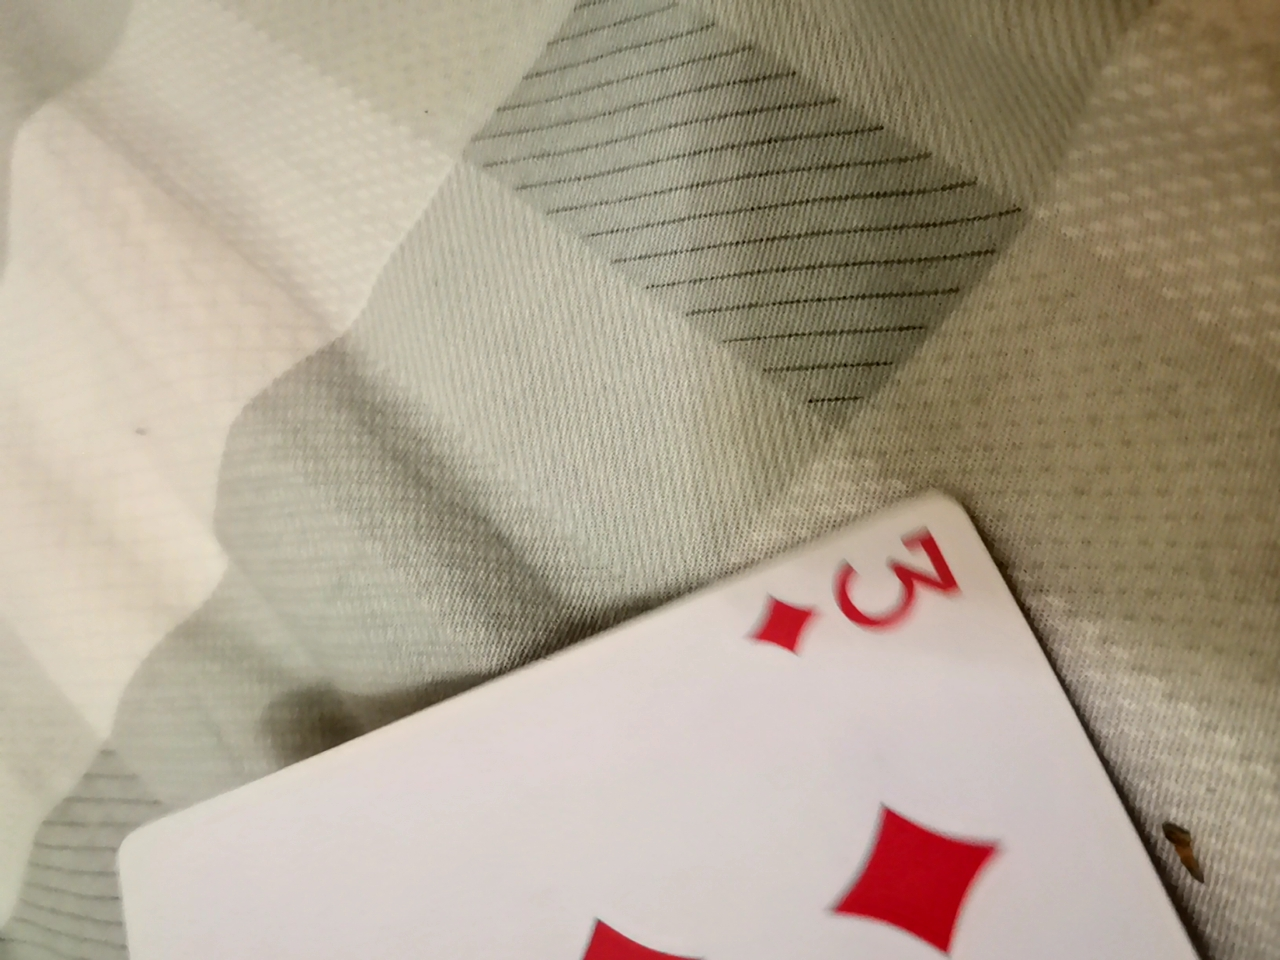fk 3: (65, 520, 1275, 957)
